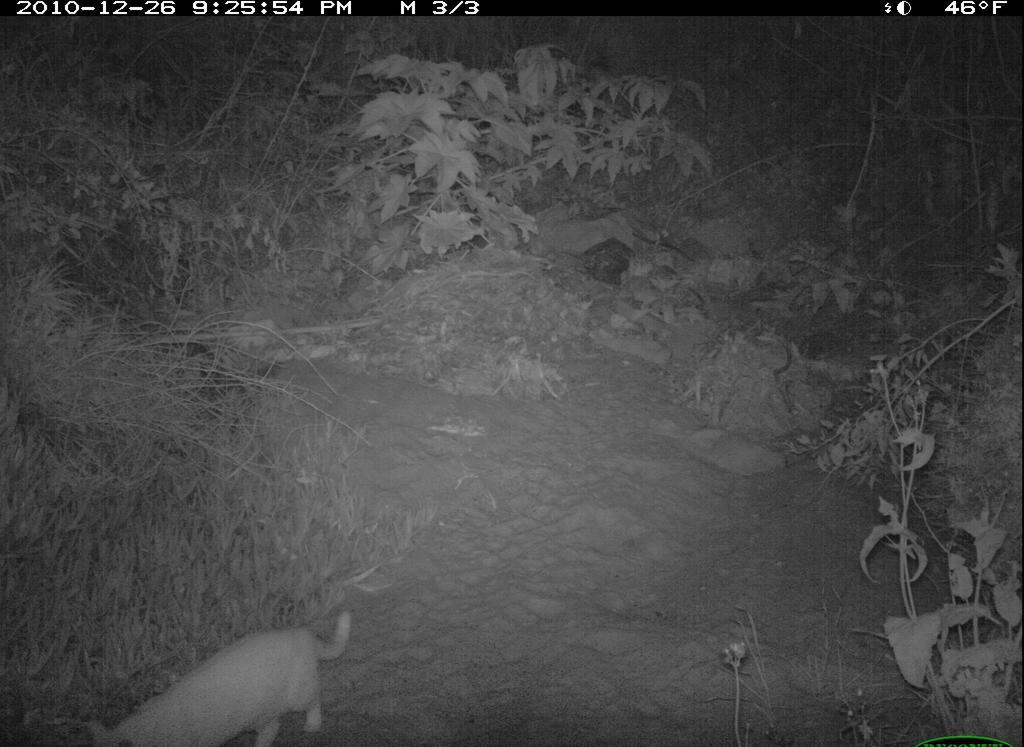cat: (80, 607, 368, 747)
